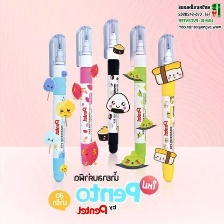correction_fluid: (46, 31, 70, 185), (155, 31, 178, 183), (73, 22, 96, 168), (128, 22, 149, 166), (101, 16, 122, 157)
